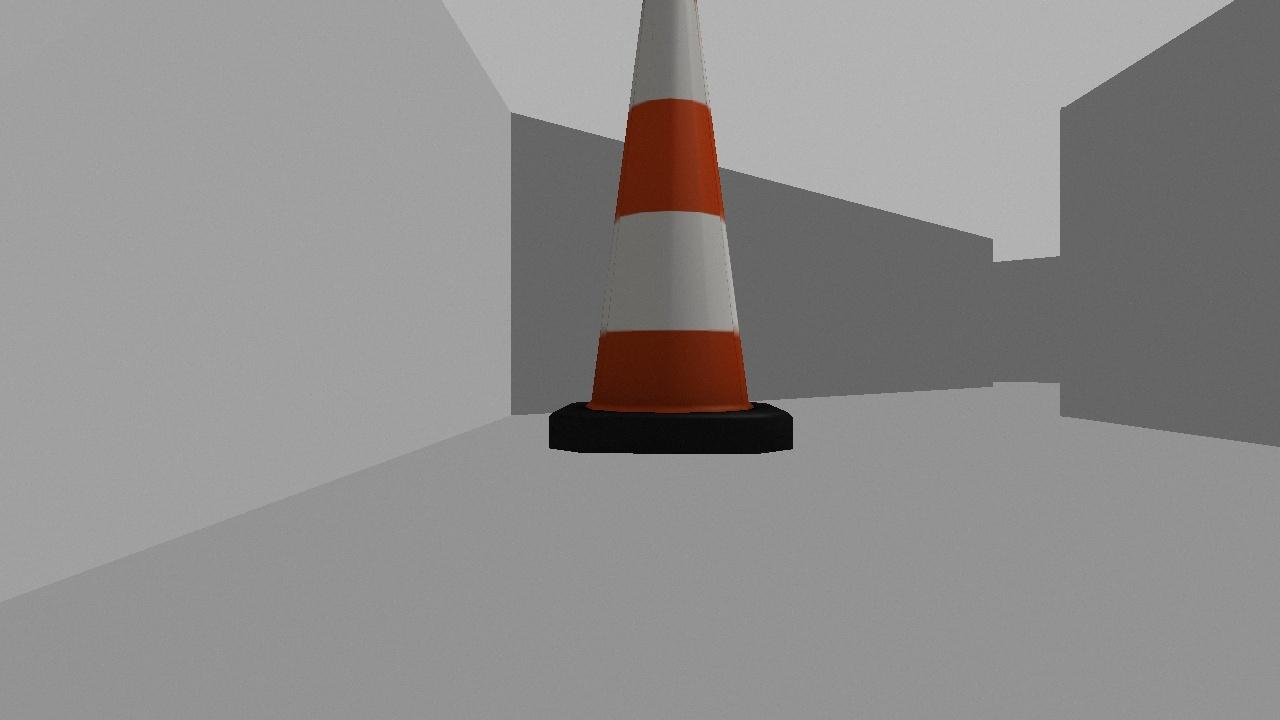cone_barrel: (545, 0, 790, 452)
